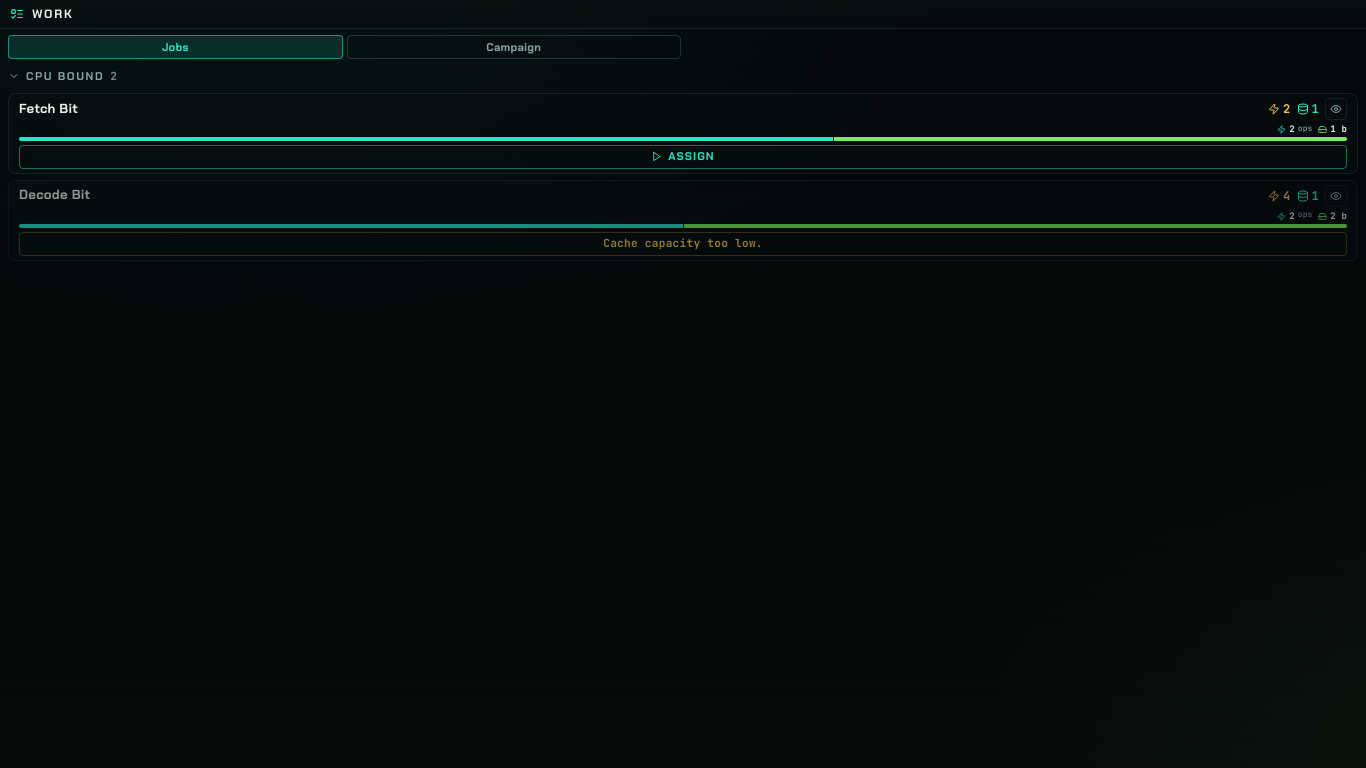
Test case: WorkPanel › keeps Campaign open for a legacy save with an active project and no research
Click the tab with aria-label "Campaign" at (514,47), box [346, 35, 681, 59]
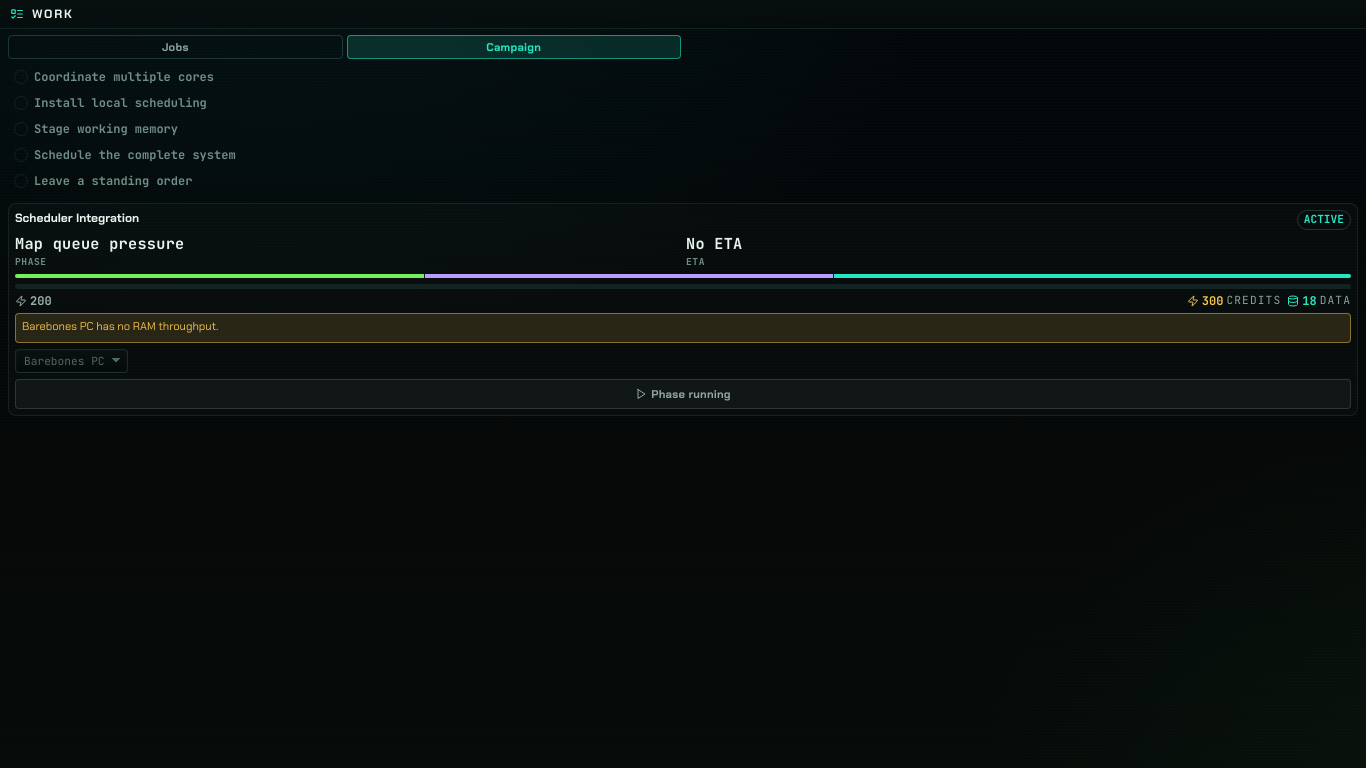
Check: the text "Active" is shown, box [1297, 210, 1351, 230]
